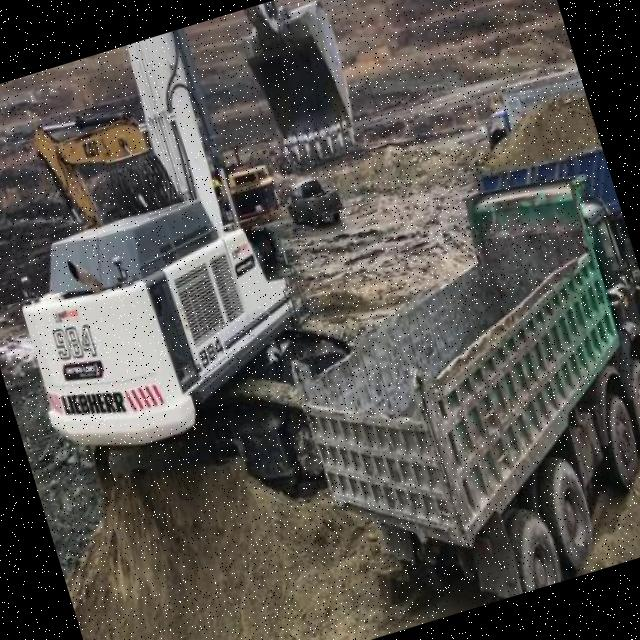Dump Truck: (252, 149, 640, 639)
Excavator: (0, 0, 458, 553)
